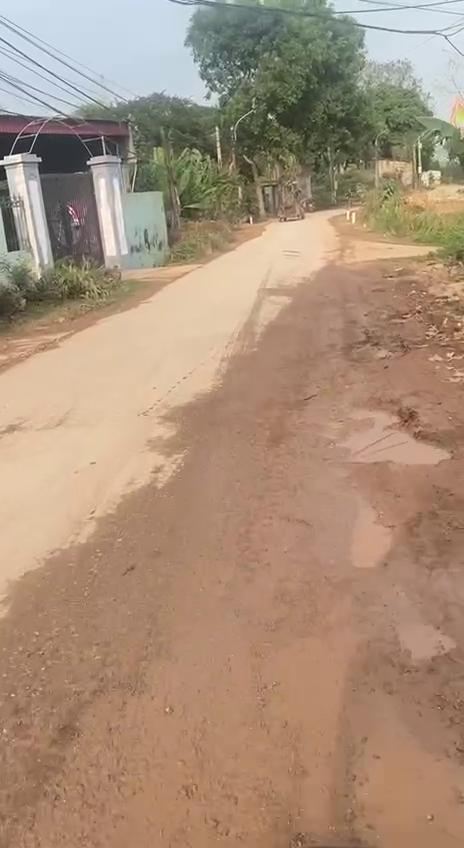pothole: (329, 397, 461, 466), (340, 500, 400, 577), (392, 614, 460, 674)
